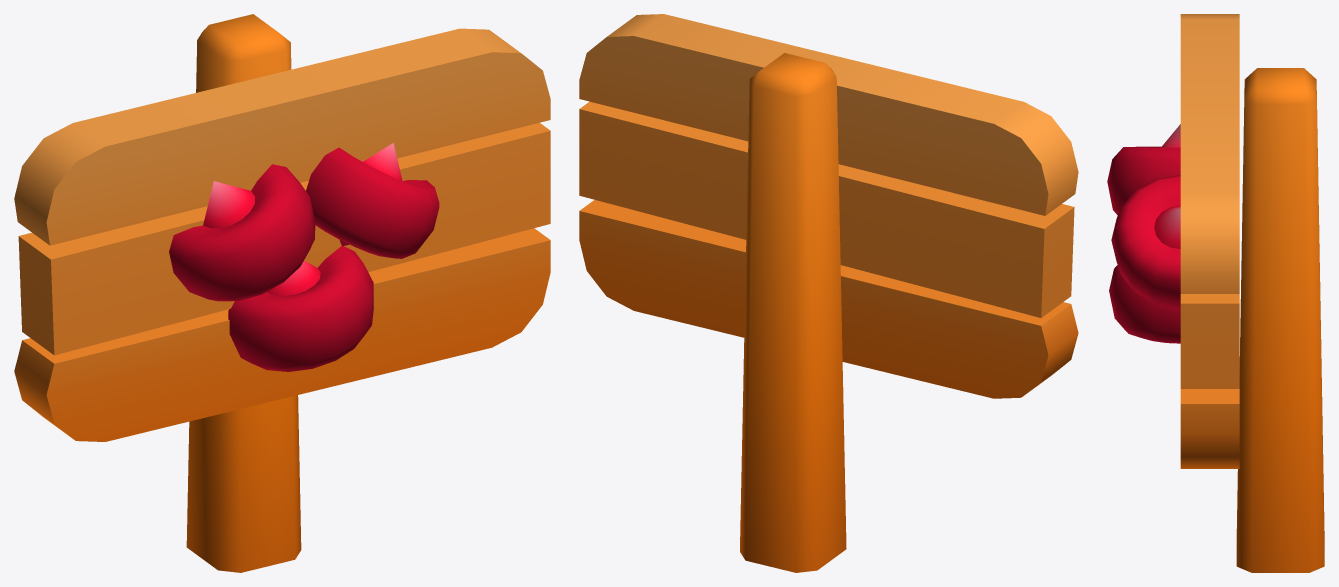
File: Farm_Crop_Sign_Water_Chestnut_01.fbx
3 views of the same model, side by side, from view 1: azimuth 30°, elevation 25°; view 2: azimuth 150°, elevation 25°; view 3: azimuth 270°, elevation 25° (orthographic). The views are drawn at different scales.
Visible parts, largest first — view 1: Farm_Crop_Sign_Water_Chestnut_01; view 2: Farm_Crop_Sign_Water_Chestnut_01; view 3: Farm_Crop_Sign_Water_Chestnut_01.
Part boxes in pixels (x1,y1,x2,y2): Farm_Crop_Sign_Water_Chestnut_01: (14, 14, 550, 572); Farm_Crop_Sign_Water_Chestnut_01: (579, 14, 1078, 572); Farm_Crop_Sign_Water_Chestnut_01: (1107, 14, 1324, 572).
Bounding box in the file's own units: 90.11 × 88.8 × 36.73.
